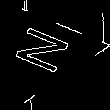N_SE: (7, 23, 75, 80)
